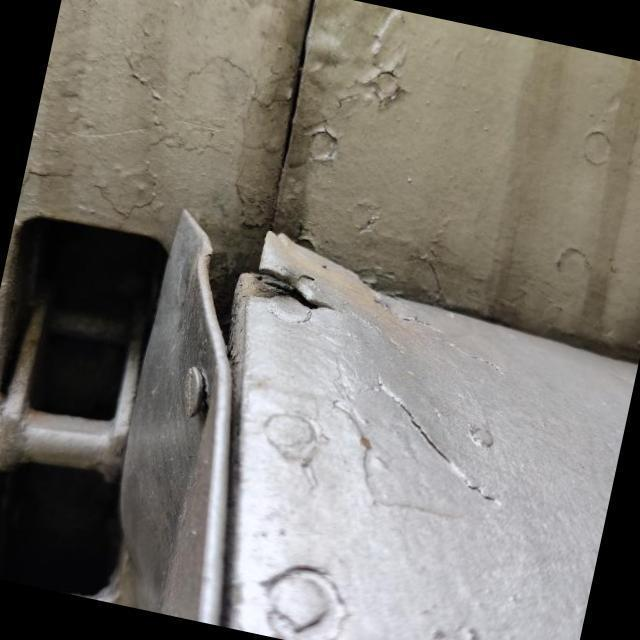Rupture: (232, 245, 356, 330)
